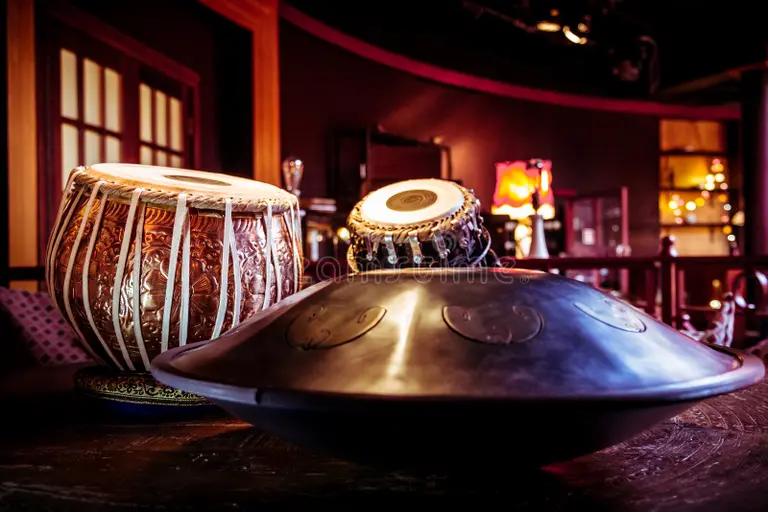tabla: (50, 161, 302, 371), (345, 178, 493, 270)
